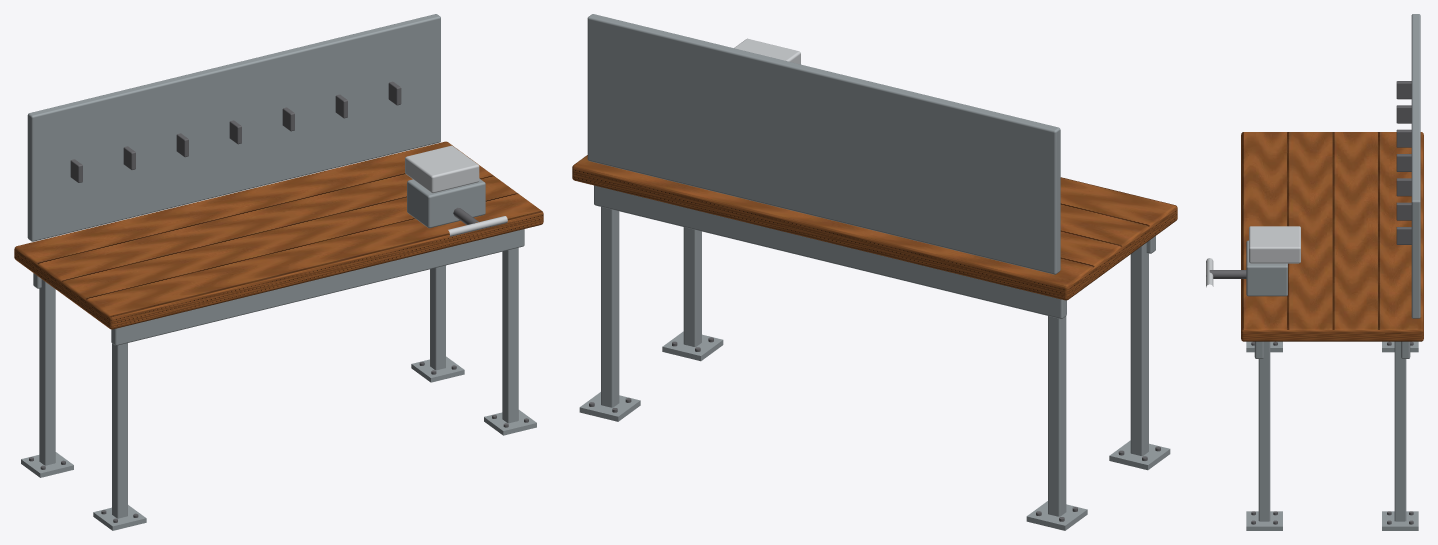
File: prison-complex-builder-workshop-bench-f79eb08b__25668.glb
3 views of the same model, side by side, from view 1: azimuth 30°, elevation 25°; view 2: azimuth 150°, elevation 25°; view 3: azimuth 270°, elevation 25° (orthographic). The views are drawn at different scales.
Visible parts, largest first — view 1: workshop-bench; view 2: workshop-bench; view 3: workshop-bench.
Part boxes in pixels (<box>): workshop-bench: <box>14,14,543,530</box>; workshop-bench: <box>572,14,1177,530</box>; workshop-bench: <box>1206,14,1423,530</box>.
Bounding box in the file's own units: 1.8 × 1.38 × 0.834.
4 materials, 1 textured.
